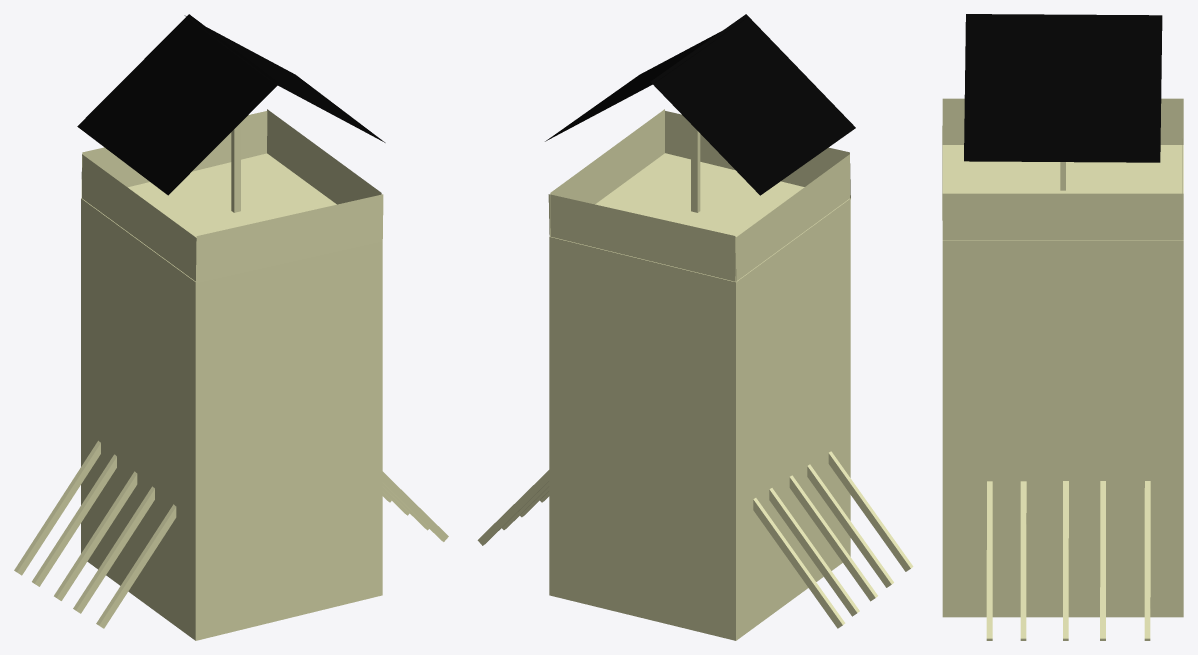
Rendered from fort.obj.
The picture shows the model from 3 angles, left to right: view 1: azimuth 30°, elevation 25°; view 2: azimuth 150°, elevation 25°; view 3: azimuth 270°, elevation 25°; orthographic projection. The views are drawn at different scales.
Parts seen in each view (by area): view 1: Cube.001_Cube.002, Cube_Cube.001, Plane.005, Plane.003, Plane, Plane.001, Plane.002, Plane.010, Cube.011_Cube.012, Cube.010_Cube.011, Cube.013_Cube.014, Cube.009_Cube.010 (+3 smaller); view 2: Cube.001_Cube.002, Cube_Cube.001, Plane.005, Plane.002, Plane, Plane.001, Plane.003, Plane.010, Cube.011_Cube.012, Cube.010_Cube.011, Cube.013_Cube.014, Cube.009_Cube.010 (+3 smaller); view 3: Cube.001_Cube.002, Cube_Cube.001, Plane.010, Plane.001, Plane, Cube.016_Cube.008, Cube.014_Cube.006, Cube.015_Cube.007, Cube.017_Cube.009, Cube.003_Cube.005.
Part boxes in pixels (bbox=[...]): Cube.001_Cube.002: bbox=[81, 153, 382, 449]; Cube_Cube.001: bbox=[81, 366, 382, 640]; Plane.005: bbox=[77, 14, 279, 195]; Plane.003: bbox=[196, 194, 383, 283]; Plane: bbox=[81, 154, 196, 281]; Plane.001: bbox=[267, 109, 381, 204]; Plane.002: bbox=[81, 111, 267, 198]; Plane.010: bbox=[184, 15, 385, 142]; Cube.011_Cube.012: bbox=[14, 440, 100, 575]; Cube.010_Cube.011: bbox=[32, 454, 116, 586]; Cube.013_Cube.014: bbox=[54, 471, 137, 600]; Cube.009_Cube.010: bbox=[73, 486, 154, 613]; Cube.001_Cube.002: bbox=[549, 153, 850, 450]; Cube_Cube.001: bbox=[549, 366, 850, 640]; Plane.005: bbox=[650, 14, 855, 195]; Plane.002: bbox=[548, 194, 736, 281]; Plane: bbox=[735, 154, 849, 281]; Plane.001: bbox=[550, 109, 664, 236]; Plane.003: bbox=[665, 111, 850, 198]; Plane.010: bbox=[545, 17, 747, 141]; Cube.011_Cube.012: bbox=[753, 498, 845, 628]; Cube.010_Cube.011: bbox=[769, 488, 859, 616]; Cube.013_Cube.014: bbox=[789, 475, 877, 601]; Cube.009_Cube.010: bbox=[807, 464, 893, 587]; Cube.001_Cube.002: bbox=[942, 145, 1183, 417]; Cube_Cube.001: bbox=[942, 416, 1183, 617]; Plane.010: bbox=[964, 14, 1162, 162]; Plane.001: bbox=[942, 193, 1183, 239]; Plane: bbox=[942, 98, 1183, 144]; Cube.016_Cube.008: bbox=[1020, 481, 1026, 640]; Cube.014_Cube.006: bbox=[1144, 481, 1150, 640]; Cube.015_Cube.007: bbox=[986, 481, 992, 640]; Cube.017_Cube.009: bbox=[1100, 481, 1105, 640]; Cube.003_Cube.005: bbox=[1063, 481, 1068, 640].
Size of the model in its own units: 2.1 by 2.93 by 1.15.
